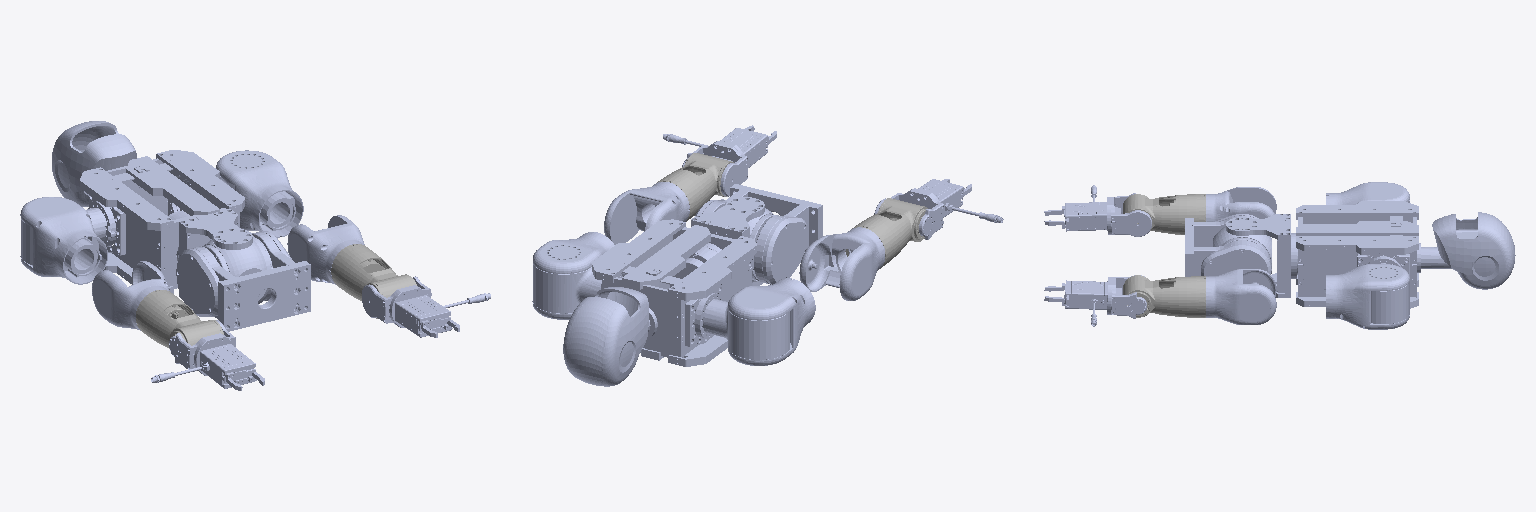
--- Render facts (derived) ---
3 views of the same robot in one strip: view 1: azimuth 30°, elevation 25°; view 2: azimuth 150°, elevation 25°; view 3: azimuth 270°, elevation 25° (orthographic).
Model rf2502_new_3 with 21 links and 20 joints (15 revolute, 4 prismatic, 1 fixed), rooted at base_link, posed every joint at zero.
Visible links, largest first — view 1: body_Link4, body_Link1, armr_Link1, arml_Link1, arml_Link5, armr_Link5, armr_Link3, armr_Link4, arml_Link3, arml_Link4, body_Link3, body_Link2 (+1 smaller); view 2: body_Link4, body_Link1, armr_Link3, armr_Link, armr_Link1, arml_Link3, arml_Link5, arml_Link1, armr_Link4, arml_Link, armr_Link5, arml_Link4 (+1 smaller); view 3: body_Link4, arml_Link1, arml_Link3, body_Link1, arml_Link4, armr_Link5, body_Link3, arml_Link5, armr_Link4, armr_Link3, arml_Link, armr_Link1 (+1 smaller).
Link boxes in pixels (x1=…): body_Link4: x1=52, y1=121, x2=244, y2=293; body_Link1: x1=176, y1=231, x2=310, y2=331; armr_Link1: x1=20, y1=197, x2=107, y2=284; arml_Link1: x1=216, y1=150, x2=303, y2=237; arml_Link5: x1=362, y1=276, x2=490, y2=337; armr_Link5: x1=151, y1=320, x2=255, y2=388; armr_Link3: x1=92, y1=261, x2=168, y2=330; armr_Link4: x1=136, y1=290, x2=223, y2=348; arml_Link3: x1=287, y1=215, x2=364, y2=284; arml_Link4: x1=331, y1=244, x2=416, y2=318; body_Link3: x1=177, y1=209, x2=252, y2=299; body_Link2: x1=202, y1=236, x2=272, y2=303; body_Link4: x1=563, y1=219, x2=756, y2=386; body_Link1: x1=695, y1=184, x2=822, y2=284; armr_Link3: x1=799, y1=227, x2=884, y2=300; armr_Link: x1=694, y1=293, x2=789, y2=359; armr_Link1: x1=728, y1=278, x2=815, y2=365; arml_Link3: x1=604, y1=182, x2=689, y2=244; arml_Link5: x1=663, y1=128, x2=767, y2=196; arml_Link1: x1=532, y1=232, x2=614, y2=319; armr_Link4: x1=845, y1=198, x2=927, y2=268; arml_Link: x1=533, y1=264, x2=626, y2=313; armr_Link5: x1=874, y1=179, x2=1003, y2=239; arml_Link4: x1=657, y1=153, x2=733, y2=221; body_Link4: x1=1296, y1=201, x2=1515, y2=308; arml_Link1: x1=1324, y1=264, x2=1409, y2=329; arml_Link3: x1=1206, y1=269, x2=1276, y2=324; body_Link1: x1=1185, y1=214, x2=1271, y2=276; arml_Link4: x1=1123, y1=275, x2=1205, y2=317; armr_Link5: x1=1065, y1=185, x2=1151, y2=236; body_Link3: x1=1226, y1=214, x2=1296, y2=297; arml_Link5: x1=1065, y1=275, x2=1146, y2=326; armr_Link4: x1=1123, y1=194, x2=1205, y2=234; armr_Link3: x1=1206, y1=187, x2=1276, y2=221; arml_Link: x1=1368, y1=256, x2=1409, y2=323; armr_Link1: x1=1326, y1=182, x2=1409, y2=204.
Bounding box of the posed robot: 0.749 × 1.07 × 0.2095 m (x, y, z).
18 mesh visuals loaded from 21 distinct referenced files (18 binary STL); not drawn: 3 (reference not matched to a file when rendering).

The robot description file, URDF, robot "rf2502_new_3":
<?xml version="1.0" encoding="utf-8"?>
<!-- This URDF was automatically created by SolidWorks to URDF Exporter! Originally created by Stephen Brawner ([email redacted]) 
     Commit Version: 1.6.0-4-g7f85cfe  Build Version: 1.6.7995.38578
     For more information, please see http://wiki.ros.org/sw_urdf_exporter -->
<robot
  name="rf2502_new_3">
  <mujoco>
    <compiler meshdir="meshes/" discardvisual="false"/>
  </mujoco>
  <link
    name="base_link">
    <inertial>
      <origin
        xyz="-9.7992E-05 0.22969 0.069502"
        rpy="0 0 0" />
      <mass
        value="11.866" />
      <inertia
        ixx="0.23061"
        ixy="-6.0461E-06"
        ixz="-1.6669E-05"
        iyy="0.27807"
        iyz="-6.6819E-06"
        izz="0.19215" />
    </inertial>
    <visual>
      <origin
        xyz="0 0 0"
        rpy="0 0 0" />
      <geometry>
        <mesh
          filename="meshes/base_link.STL" />
      </geometry>
      <material
        name="">
        <color
          rgba="0.75294 0.75294 0.75294 1" />
      </material>
    </visual>
    <collision>
      <origin
        xyz="0 0 0"
        rpy="0 0 0" />
      <geometry>
        <mesh
          filename="meshes/base_link.STL" />
      </geometry>
    </collision>
  </link>
  <link
    name="body_Link1">
    <inertial>
      <origin
        xyz="-0.0025258 0.084032 2.3453E-15"
        rpy="0 0 0" />
      <mass
        value="1.2609" />
      <inertia
        ixx="0.0035203"
        ixy="-2.9609E-06"
        ixz="-4.8861E-17"
        iyy="0.0024757"
        iyz="-3.4284E-19"
        izz="0.0031407" />
    </inertial>
    <visual>
      <origin
        xyz="0 0 0"
        rpy="0 0 0" />
      <geometry>
        <mesh
          filename="meshes/body_Link1.STL" />
      </geometry>
      <material
        name="">
        <color
          rgba="0.79216 0.81961 0.93333 1" />
      </material>
    </visual>
    <collision>
      <origin
        xyz="0 0 0"
        rpy="0 0 0" />
      <geometry>
        <mesh
          filename="meshes/body_Link1.STL" />
      </geometry>
    </collision>
  </link>
  <joint
    name="body_joint1"
    type="fixed">
    <origin
      xyz="0 0.689 0.12151"
      rpy="0 0 0" />
    <parent
      link="base_link" />
    <child
      link="body_Link1" />
    <axis
      xyz="0 0 0" />
  </joint>
  <link
    name="body_Link2">
    <inertial>
      <origin
        xyz="-0.073805 -0.00011899 6.8299E-05"
        rpy="0 0 0" />
      <mass
        value="0.66114" />
      <inertia
        ixx="0.0024429"
        ixy="5.7239E-07"
        ixz="-2.9877E-07"
        iyy="0.0013766"
        iyz="-1.0558E-06"
        izz="0.0014455" />
    </inertial>
    <visual>
      <origin
        xyz="0 0 0"
        rpy="0 0 0" />
      <geometry>
        <mesh
          filename="meshes/body_Link2.STL" />
      </geometry>
      <material
        name="">
        <color
          rgba="0.79216 0.81961 0.93333 1" />
      </material>
    </visual>
    <collision>
      <origin
        xyz="0 0 0"
        rpy="0 0 0" />
      <geometry>
        <mesh
          filename="meshes/body_Link2.STL" />
      </geometry>
    </collision>
  </link>
  <joint
    name="body_joint2"
    type="revolute">
    <origin
      xyz="0.0685 0.1305 0"
      rpy="0 0 0" />
    <parent
      link="body_Link1" />
    <child
      link="body_Link2" />
    <axis
      xyz="1 0 0" />
    <limit
      lower="-0.1745"
      upper="1.1345"
      effort="0"
      velocity="0" />
  </joint>
  <link
    name="body_Link3">
    <inertial>
      <origin
        xyz="2.3435E-05 0.079526 0.06751"
        rpy="0 0 0" />
      <mass
        value="0.53424" />
      <inertia
        ixx="0.00087836"
        ixy="-4.169E-07"
        ixz="-3.6125E-12"
        iyy="0.0009469"
        iyz="-2.2378E-10"
        izz="0.00081954" />
    </inertial>
    <visual>
      <origin
        xyz="0 0 0"
        rpy="0 0 0" />
      <geometry>
        <mesh
          filename="meshes/body_Link3.STL" />
      </geometry>
      <material
        name="">
        <color
          rgba="0.79216 0.81961 0.93333 1" />
      </material>
    </visual>
    <collision>
      <origin
        xyz="0 0 0"
        rpy="0 0 0" />
      <geometry>
        <mesh
          filename="meshes/body_Link3.STL" />
      </geometry>
    </collision>
  </link>
  <joint
    name="body_joint3"
    type="revolute">
    <origin
      xyz="-0.0685 0 -0.0675"
      rpy="0 0 0" />
    <parent
      link="body_Link2" />
    <child
      link="body_Link3" />
    <axis
      xyz="0 0 -1" />
    <limit
      lower="0"
      upper="0"
      effort="0"
      velocity="0" />
  </joint>
  <link
    name="body_Link4">
    <inertial>
      <origin
        xyz="-2.2988E-05 0.11257 -0.0098981"
        rpy="0 0 0" />
      <mass
        value="3.474" />
      <inertia
        ixx="0.015539"
        ixy="-3.9399E-06"
        ixz="-8.8496E-06"
        iyy="0.0074075"
        iyz="0.00010252"
        izz="0.016723" />
    </inertial>
    <visual>
      <origin
        xyz="0 0 0"
        rpy="0 0 0" />
      <geometry>
        <mesh
          filename="meshes/body_Link4.STL" />
      </geometry>
      <material
        name="">
        <color
          rgba="0.79216 0.81961 0.93333 1" />
      </material>
    </visual>
    <collision>
      <origin
        xyz="0 0 0"
        rpy="0 0 0" />
      <geometry>
        <mesh
          filename="meshes/body_Link4.STL" />
      </geometry>
    </collision>
  </link>
  <joint
    name="body_joint4"
    type="revolute">
    <origin
      xyz="0 0.1935 0.0675"
      rpy="0 0 0" />
    <parent
      link="body_Link3" />
    <child
      link="body_Link4" />
    <axis
      xyz="0 -1 0" />
    <limit
      lower="-1.5708"
      upper="1.5708"
      effort="0"
      velocity="0" />
  </joint>
  <link
    name="armr_Link">
    <inertial>
      <origin
        xyz="-0.088271 -0.00036216 -0.0029443"
        rpy="0 0 0" />
      <mass
        value="0.238" />
      <inertia
        ixx="0.00042494"
        ixy="-2.4509E-08"
        ixz="-5.5725E-05"
        iyy="0.00070451"
        iyz="3.0253E-08"
        izz="0.00086165" />
    </inertial>
    <visual>
      <origin
        xyz="0 0 0"
        rpy="0 0 0" />
      <geometry>
        <mesh
          filename="meshes/armr_Link.STL" />
      </geometry>
      <material
        name="">
        <color
          rgba="0.79216 0.81961 0.93333 1" />
      </material>
    </visual>
    <collision>
      <origin
        xyz="0 0 0"
        rpy="0 0 0" />
      <geometry>
        <mesh
          filename="meshes/armr_Link.STL" />
      </geometry>
    </collision>
  </link>
  <joint
    name="armr_joint"
    type="revolute">
    <origin
      xyz="-0.1085 0.1275 0"
      rpy="0 0 0" />
    <parent
      link="body_Link4" />
    <child
      link="armr_Link" />
    <axis
      xyz="1 0 0" />
    <limit
      lower="-2.9671"
      upper="2.9671"
      effort="0"
      velocity="0" />
  </joint>
  <link
    name="armr_Link1">
    <inertial>
      <origin
        xyz="-0.002025 -0.057677 0.028331"
        rpy="0 0 0" />
      <mass
        value="0.62796" />
      <inertia
        ixx="0.0012724"
        ixy="2.1415E-05"
        ixz="1.5045E-06"
        iyy="0.0011052"
        iyz="0.0002055"
        izz="0.0017812" />
    </inertial>
    <visual>
      <origin
        xyz="0 0 0"
        rpy="0 0 0" />
      <geometry>
        <mesh
          filename="meshes/armr_Link1.STL" />
      </geometry>
      <material
        name="">
        <color
          rgba="0.79216 0.81961 0.93333 1" />
      </material>
    </visual>
    <collision>
      <origin
        xyz="0 0 0"
        rpy="0 0 0" />
      <geometry>
        <mesh
          filename="meshes/armr_Link1.STL" />
      </geometry>
    </collision>
  </link>
  <joint
    name="armr_joint1"
    type="revolute">
    <origin
      xyz="-0.10794 0 -0.039999"
      rpy="0 0 0" />
    <parent
      link="armr_Link" />
    <child
      link="armr_Link1" />
    <axis
      xyz="0 0 1" />
    <limit
      lower="-3.1416"
      upper="0.1745"
      effort="0"
      velocity="0" />
  </joint>
  <link
    name="armr_Link2">
    <inertial>
      <origin
        xyz="-0.0045947 -0.11257 -2.6233E-05"
        rpy="0 0 0" />
      <mass
        value="0.82669" />
      <inertia
        ixx="0.0015219"
        ixy="-6.512E-05"
        ixz="-7.7275E-07"
        iyy="0.00082904"
        iyz="-1.3739E-06"
        izz="0.0014682" />
    </inertial>
    <visual>
      <origin
        xyz="0 0 0"
        rpy="0 0 0" />
      <geometry>
        <mesh
          filename="meshes/armr_Link2.STL" />
      </geometry>
      <material
        name="">
        <color
          rgba="0.79216 0.81961 0.93333 1" />
      </material>
    </visual>
    <collision>
      <origin
        xyz="0 0 0"
        rpy="0 0 0" />
      <geometry>
        <mesh
          filename="meshes/armr_Link2.STL" />
      </geometry>
    </collision>
  </link>
  <joint
    name="armr_joint2"
    type="revolute">
    <origin
      xyz="-6.2625E-05 -0.1255 0.0415"
      rpy="0 0 0" />
    <parent
      link="armr_Link1" />
    <child
      link="armr_Link2" />
    <axis
      xyz="0 -1 0" />
    <limit
      lower="-1.1345"
      upper="1.1345"
      effort="0"
      velocity="0" />
  </joint>
  <link
    name="armr_Link3">
    <inertial>
      <origin
        xyz="0.030352 -0.026991 -0.0026078"
        rpy="0 0 0" />
      <mass
        value="0.59926" />
      <inertia
        ixx="0.0012762"
        ixy="0.00012082"
        ixz="9.0094E-06"
        iyy="0.00066967"
        iyz="-3.5723E-06"
        izz="0.00094168" />
    </inertial>
    <visual>
      <origin
        xyz="0 0 0"
        rpy="0 0 0" />
      <geometry>
        <mesh
          filename="meshes/armr_Link3.STL" />
      </geometry>
      <material
        name="">
        <color
          rgba="0.79216 0.81961 0.93333 1" />
      </material>
    </visual>
    <collision>
      <origin
        xyz="0 0 0"
        rpy="0 0 0" />
      <geometry>
        <mesh
          filename="meshes/armr_Link3.STL" />
      </geometry>
    </collision>
  </link>
  <joint
    name="armr_joint3"
    type="revolute">
    <origin
      xyz="-0.05 -0.1805 0"
      rpy="0 0 0" />
    <parent
      link="armr_Link2" />
    <child
      link="armr_Link3" />
    <axis
      xyz="-1 0 0" />
    <limit
      lower="-0.1745"
      upper="1.9199"
      effort="0"
      velocity="0" />
  </joint>
  <link
    name="armr_Link4">
    <inertial>
      <origin
        xyz="-0.0018548 -0.087481 6.9297E-05"
        rpy="0 0 0" />
      <mass
        value="0.59684" />
      <inertia
        ixx="0.00087958"
        ixy="-4.2748E-05"
        ixz="1.3328E-08"
        iyy="0.00047904"
        iyz="2.4171E-07"
        izz="0.00089175" />
    </inertial>
    <visual>
      <origin
        xyz="0 0 0"
        rpy="0 0 0" />
      <geometry>
        <mesh
          filename="meshes/armr_Link4.STL" />
      </geometry>
      <material
        name="">
        <color
          rgba="0.75294 0.75294 0.75294 1" />
      </material>
    </visual>
    <collision>
      <origin
        xyz="0 0 0"
        rpy="0 0 0" />
      <geometry>
        <mesh
          filename="meshes/armr_Link4.STL" />
      </geometry>
    </collision>
  </link>
  <joint
    name="armr_joint4"
    type="revolute">
    <origin
      xyz="0.050001 -0.092358 0.00049537"
      rpy="0 0 0" />
    <parent
      link="armr_Link3" />
    <child
      link="armr_Link4" />
    <axis
      xyz="0 -1 0" />
    <limit
      lower="-1.1345"
      upper="1.1345"
      effort="0"
      velocity="0" />
  </joint>
  <link
    name="armr_Link5">
    <inertial>
      <origin
        xyz="0.042096 -0.086394 -0.0032579"
        rpy="0 0 0" />
      <mass
        value="0.44092" />
      <inertia
        ixx="0.00021771"
        ixy="-1.3833E-07"
        ixz="3.2683E-08"
        iyy="0.00025175"
        iyz="-1.596E-06"
        izz="0.00029423" />
    </inertial>
    <visual>
      <origin
        xyz="0 0 0"
        rpy="0 0 0" />
      <geometry>
        <mesh
          filename="meshes/armr_Link5.STL" />
      </geometry>
      <material
        name="">
        <color
          rgba="0.79216 0.81961 0.93333 1" />
      </material>
    </visual>
    <collision>
      <origin
        xyz="0 0 0"
        rpy="0 0 0" />
      <geometry>
        <mesh
          filename="meshes/armr_Link5.STL" />
      </geometry>
    </collision>
  </link>
  <joint
    name="armr_joint5"
    type="revolute">
    <origin
      xyz="-0.043501 -0.16 0"
      rpy="0 0 0" />
    <parent
      link="armr_Link4" />
    <child
      link="armr_Link5" />
    <axis
      xyz="-1 0 0" />
    <limit
      lower="-1.5707"
      upper="1.5707"
      effort="0"
      velocity="0" />
  </joint>
  <link
    name="handr_Link1">
    <inertial>
      <origin
        xyz="-0.0010285 -0.0014487 0.0037309"
        rpy="0 0 0" />
      <mass
        value="0.0068162" />
      <inertia
        ixx="8.6401E-07"
        ixy="1.7414E-09"
        ixz="-1.7338E-08"
        iyy="6.4526E-07"
        iyz="1.2008E-07"
        izz="1.3237E-06" />
    </inertial>
    <visual>
      <origin
        xyz="0 0 0"
        rpy="0 0 0" />
      <geometry>
        <mesh
          filename="meshes/handr_Link1.STL" />
      </geometry>
      <material
        name="">
        <color
          rgba="0.79216 0.81961 0.93333 1" />
      </material>
    </visual>
    <collision>
      <origin
        xyz="0 0 0"
        rpy="0 0 0" />
      <geometry>
        <mesh
          filename="meshes/handr_Link1.STL" />
      </geometry>
    </collision>
  </link>
  <joint
    name="handr_joint1"
    type="prismatic">
    <origin
      xyz="0.064 -0.17204 -0.015493"
      rpy="0.037687 0 0" />
    <parent
      link="armr_Link5" />
    <child
      link="handr_Link1" />
    <axis
      xyz="-1 0 0" />
    <limit
      lower="0"
      upper="0.025"
      effort="0"
      velocity="0" />
  </joint>
  <link
    name="handr_Link2">
    <inertial>
      <origin
        xyz="0.0010285 -0.0014487 -0.0037309"
        rpy="0 0 0" />
      <mass
        value="0.0068162" />
      <inertia
        ixx="8.6401E-07"
        ixy="-1.7414E-09"
        ixz="-1.7338E-08"
        iyy="6.4526E-07"
        iyz="-1.2008E-07"
        izz="1.3237E-06" />
    </inertial>
    <visual>
      <origin
        xyz="0 0 0"
        rpy="0 0 0" />
      <geometry>
        <mesh
          filename="meshes/handr_Link2.STL" />
      </geometry>
      <material
        name="">
        <color
          rgba="0.79216 0.81961 0.93333 1" />
      </material>
    </visual>
    <collision>
      <origin
        xyz="0 0 0"
        rpy="0 0 0" />
      <geometry>
        <mesh
          filename="meshes/handr_Link2.STL" />
      </geometry>
    </collision>
  </link>
  <joint
    name="handr_joint2"
    type="prismatic">
    <origin
      xyz="0.023 -0.17272 0.0024942"
      rpy="0.037687 0 0" />
    <parent
      link="armr_Link5" />
    <child
      link="handr_Link2" />
    <axis
      xyz="1 0 0" />
    <limit
      lower="0"
      upper="0.025"
      effort="0"
      velocity="0" />
  </joint>
  <link
    name="arml_Link">
    <inertial>
      <origin
        xyz="0.088271 -0.00036216 0.0029443"
        rpy="0 0 0" />
      <mass
        value="0.238" />
      <inertia
        ixx="0.00042494"
        ixy="2.4509E-08"
        ixz="-5.5725E-05"
        iyy="0.00070451"
        iyz="-3.0253E-08"
        izz="0.00086165" />
    </inertial>
    <visual>
      <origin
        xyz="0 0 0"
        rpy="0 0 0" />
      <geometry>
        <mesh
          filename="meshes/arml_Link.STL" />
      </geometry>
      <material
        name="">
        <color
          rgba="0.79216 0.81961 0.93333 1" />
      </material>
    </visual>
    <collision>
      <origin
        xyz="0 0 0"
        rpy="0 0 0" />
      <geometry>
        <mesh
          filename="meshes/arml_Link.STL" />
      </geometry>
    </collision>
  </link>
  <joint
    name="arml_joint"
    type="revolute">
    <origin
      xyz="0.1085 0.1275 0"
      rpy="0 0 0" />
    <parent
      link="body_Link4" />
    <child
      link="arml_Link" />
    <axis
      xyz="-1 0 0" />
    <limit
      lower="-2.9671"
      upper="2.9671"
      effort="0"
      velocity="0" />
  </joint>
  <link
    name="arml_Link1">
    <inertial>
      <origin
        xyz="0.002025 -0.057677 -0.028331"
        rpy="0 0 0" />
      <mass
        value="0.62796" />
      <inertia
        ixx="0.0012724"
        ixy="-2.1415E-05"
        ixz="1.5044E-06"
        iyy="0.0011052"
        iyz="-0.0002055"
        izz="0.0017812" />
    </inertial>
    <visual>
      <origin
        xyz="0 0 0"
        rpy="0 0 0" />
      <geometry>
        <mesh
          filename="meshes/arml_Link1.STL" />
      </geometry>
      <material
        name="">
        <color
          rgba="0.79216 0.81961 0.93333 1" />
      </material>
    </visual>
    <collision>
      <origin
        xyz="0 0 0"
        rpy="0 0 0" />
      <geometry>
        <mesh
          filename="meshes/arml_Link1.STL" />
      </geometry>
    </collision>
  </link>
  <joint
    name="arml_joint1"
    type="revolute">
    <origin
      xyz="0.10794 0 0.039999"
      rpy="0 0 0" />
    <parent
      link="arml_Link" />
    <child
      link="arml_Link1" />
    <axis
      xyz="0 0 -1" />
    <limit
      lower="-3.1416"
      upper="0.1745"
      effort="0"
      velocity="0" />
  </joint>
  <link
    name="arml_Link2">
    <inertial>
      <origin
        xyz="0.0045947 -0.11257 2.6233E-05"
        rpy="0 0 0" />
      <mass
        value="0.82669" />
      <inertia
        ixx="0.0015219"
        ixy="6.512E-05"
        ixz="-7.7275E-07"
        iyy="0.00082904"
        iyz="1.3739E-06"
        izz="0.0014682" />
    </inertial>
    <visual>
      <origin
        xyz="0 0 0"
        rpy="0 0 0" />
      <geometry>
        <mesh
          filename="meshes/arml_Link2.STL" />
      </geometry>
      <material
        name="">
        <color
          rgba="0.79216 0.81961 0.93333 1" />
      </material>
    </visual>
    <collision>
      <origin
        xyz="0 0 0"
        rpy="0 0 0" />
      <geometry>
        <mesh
          filename="meshes/arml_Link2.STL" />
      </geometry>
    </collision>
  </link>
  <joint
    name="arml_joint2"
    type="revolute">
    <origin
      xyz="6.2625E-05 -0.1255 -0.0415"
      rpy="0 0 0" />
    <parent
      link="arml_Link1" />
    <child
      link="arml_Link2" />
    <axis
      xyz="0 1 0" />
    <limit
      lower="-1.1345"
      upper="1.1345"
      effort="0"
      velocity="0" />
  </joint>
  <link
    name="arml_Link3">
    <inertial>
      <origin
        xyz="-0.030352 -0.026991 0.0026078"
        rpy="0 0 0" />
      <mass
        value="0.59926" />
      <inertia
        ixx="0.0012762"
        ixy="-0.00012082"
        ixz="9.0094E-06"
        iyy="0.00066967"
        iyz="3.5723E-06"
        izz="0.00094168" />
    </inertial>
    <visual>
      <origin
        xyz="0 0 0"
        rpy="0 0 0" />
      <geometry>
        <mesh
          filename="meshes/arml_Link3.STL" />
      </geometry>
      <material
        name="">
        <color
          rgba="0.79216 0.81961 0.93333 1" />
      </material>
    </visual>
    <collision>
      <origin
        xyz="0 0 0"
        rpy="0 0 0" />
      <geometry>
        <mesh
          filename="meshes/arml_Link3.STL" />
      </geometry>
    </collision>
  </link>
  <joint
    name="arml_joint3"
    type="revolute">
    <origin
      xyz="0.05 -0.1805 0"
      rpy="0 0 0" />
    <parent
      link="arml_Link2" />
    <child
      link="arml_Link3" />
    <axis
      xyz="-1 0 0" />
    <limit
      lower="-0.1745"
      upper="1.9198"
      effort="0"
      velocity="0" />
  </joint>
  <link
    name="arml_Link4">
    <inertial>
      <origin
        xyz="0.0018548 -0.087481 -6.9297E-05"
        rpy="0 0 0" />
      <mass
        value="0.59684" />
      <inertia
        ixx="0.00087958"
        ixy="4.2748E-05"
        ixz="1.3328E-08"
        iyy="0.00047904"
        iyz="-2.4171E-07"
        izz="0.00089175" />
    </inertial>
    <visual>
      <origin
        xyz="0 0 0"
        rpy="0 0 0" />
      <geometry>
        <mesh
          filename="meshes/arml_Link4.STL" />
      </geometry>
      <material
        name="">
        <color
          rgba="0.75294 0.75294 0.75294 1" />
      </material>
    </visual>
    <collision>
      <origin
        xyz="0 0 0"
        rpy="0 0 0" />
      <geometry>
        <mesh
          filename="meshes/arml_Link4.STL" />
      </geometry>
    </collision>
  </link>
  <joint
    name="arml_joint4"
    type="revolute">
    <origin
      xyz="-0.050001 -0.092358 -0.00049537"
      rpy="0 0 0" />
    <parent
      link="arml_Link3" />
    <child
      link="arml_Link4" />
    <axis
      xyz="0 1 0" />
    <limit
      lower="-1.1345"
      upper="1.1345"
      effort="0"
      velocity="0" />
  </joint>
  <link
    name="arml_Link5">
    <inertial>
      <origin
        xyz="-0.042096 -0.086394 0.0032579"
        rpy="0 0 0" />
      <mass
        value="0.44092" />
      <inertia
        ixx="0.00021771"
        ixy="1.3833E-07"
        ixz="3.2683E-08"
        iyy="0.00025175"
        iyz="1.596E-06"
        izz="0.00029423" />
    </inertial>
    <visual>
      <origin
        xyz="0 0 0"
        rpy="0 0 0" />
      <geometry>
        <mesh
          filename="meshes/arml_Link5.STL" />
      </geometry>
      <material
        name="">
        <color
          rgba="0.79216 0.81961 0.93333 1" />
      </material>
    </visual>
    <collision>
      <origin
        xyz="0 0 0"
        rpy="0 0 0" />
      <geometry>
        <mesh
          filename="meshes/arml_Link5.STL" />
      </geometry>
    </collision>
  </link>
  <joint
    name="arml_joint5"
    type="revolute">
    <origin
      xyz="0.043501 -0.16 0"
      rpy="0 0 0" />
    <parent
      link="arml_Link4" />
    <child
      link="arml_Link5" />
    <axis
      xyz="-1 0 0" />
    <limit
      lower="-1.5708"
      upper="1.5708"
      effort="0"
      velocity="0" />
  </joint>
  <link
    name="handl_Link1">
    <inertial>
      <origin
        xyz="0.0010285 -0.0014487 -0.0037309"
        rpy="0 0 0" />
      <mass
        value="0.0068162" />
      <inertia
        ixx="8.6401E-07"
        ixy="-1.7414E-09"
        ixz="-1.7338E-08"
        iyy="6.4526E-07"
        iyz="-1.2008E-07"
        izz="1.3237E-06" />
    </inertial>
    <visual>
      <origin
        xyz="0 0 0"
        rpy="0 0 0" />
      <geometry>
        <mesh
          filename="meshes/handl_Link1.STL" />
      </geometry>
      <material
        name="">
        <color
          rgba="0.79216 0.81961 0.93333 1" />
      </material>
    </visual>
    <collision>
      <origin
        xyz="0 0 0"
        rpy="0 0 0" />
      <geometry>
        <mesh
          filename="meshes/handl_Link1.STL" />
      </geometry>
    </collision>
  </link>
  <joint
    name="handl_joint1"
    type="prismatic">
    <origin
      xyz="-0.064 -0.17204 0.015493"
      rpy="-0.037687 0 0" />
    <parent
      link="arml_Link5" />
    <child
      link="handl_Link1" />
    <axis
      xyz="1 0 0" />
    <limit
      lower="0"
      upper="0.025"
      effort="0"
      velocity="0" />
  </joint>
  <link
    name="handl_Link2">
    <inertial>
      <origin
        xyz="-0.0010285 -0.0014487 0.0037309"
        rpy="0 0 0" />
      <mass
        value="0.0068162" />
      <inertia
        ixx="8.6401E-07"
        ixy="1.7414E-09"
        ixz="-1.7338E-08"
        iyy="6.4526E-07"
        iyz="1.2008E-07"
        izz="1.3237E-06" />
    </inertial>
    <visual>
      <origin
        xyz="0 0 0"
        rpy="0 0 0" />
      <geometry>
        <mesh
          filename="meshes/handl_Link2.STL" />
      </geometry>
      <material
        name="">
        <color
          rgba="0.79216 0.81961 0.93333 1" />
      </material>
    </visual>
    <collision>
      <origin
        xyz="0 0 0"
        rpy="0 0 0" />
      <geometry>
        <mesh
          filename="meshes/handl_Link2.STL" />
      </geometry>
    </collision>
  </link>
  <joint
    name="handl_joint2"
    type="prismatic">
    <origin
      xyz="-0.023 -0.17272 -0.0024942"
      rpy="-0.037687 0 0" />
    <parent
      link="arml_Link5" />
    <child
      link="handl_Link2" />
    <axis
      xyz="-1 0 0" />
    <limit
      lower="0"
      upper="0.025"
      effort="0"
      velocity="0" />
  </joint>
</robot>
